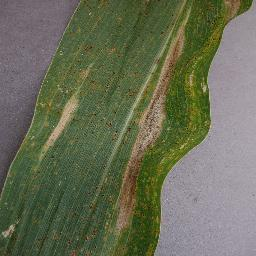Corn_Blight: (114, 2, 208, 251), (20, 41, 98, 176), (63, 207, 101, 255), (210, 0, 244, 48), (0, 214, 24, 249), (70, 0, 111, 15)
